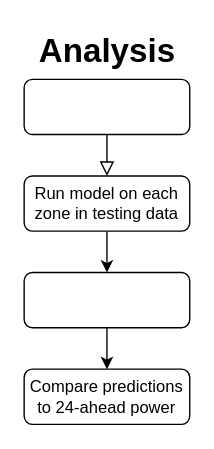
This 214x449 diagram has some shape labels left out. Each missing label, with the box of its shape:
Add/subtract 24 hours data/power: (23, 271, 190, 328)
Train the SVR model: (23, 78, 190, 135)
